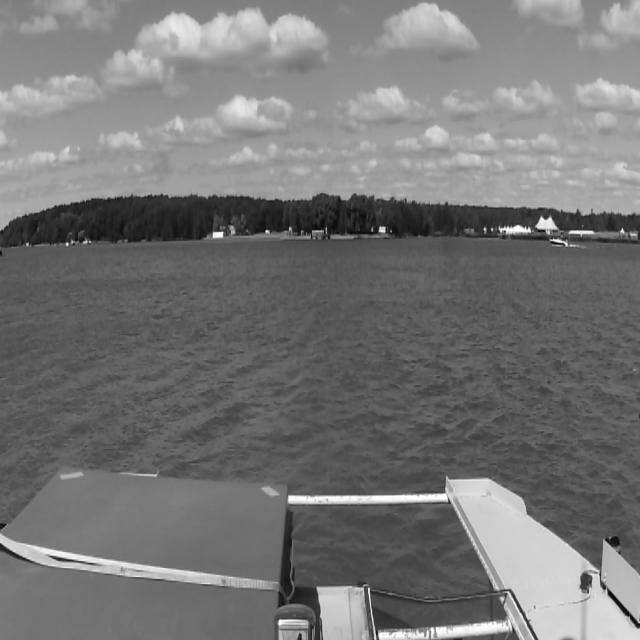ship: (550, 234, 568, 249)
